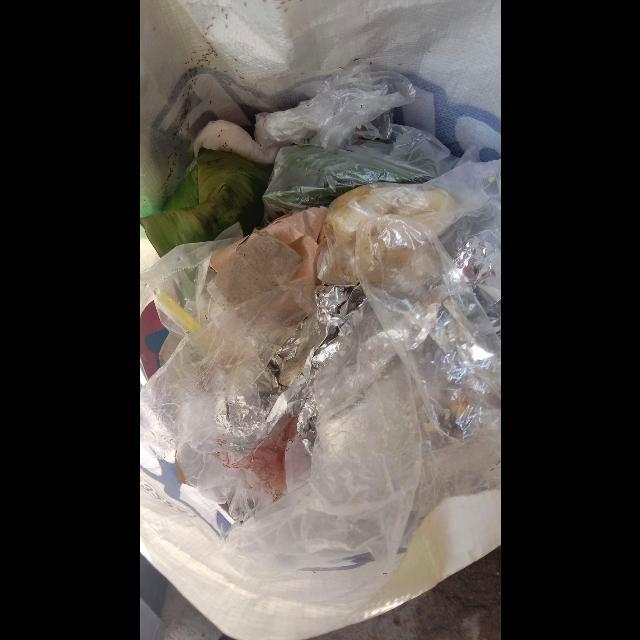aluminum: (216, 283, 366, 457)
paper: (208, 207, 327, 281)
plastic_bag: (316, 162, 501, 440), (226, 336, 435, 560), (139, 233, 316, 451), (261, 126, 460, 223), (253, 64, 416, 149)
